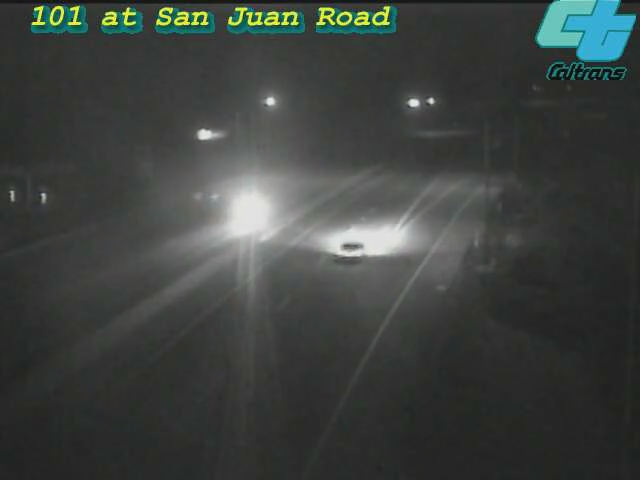vehicle: (309, 211, 389, 291), (205, 168, 285, 248)
